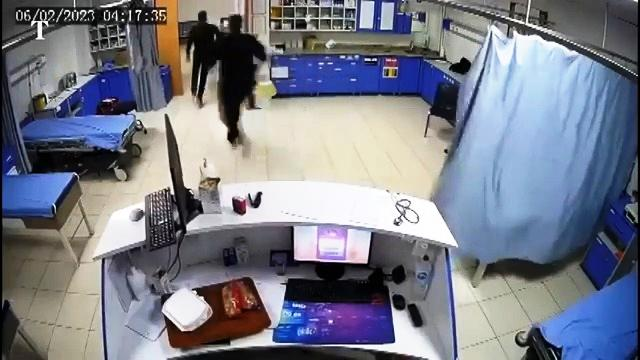berlari: (213, 10, 270, 146), (186, 7, 217, 105)
